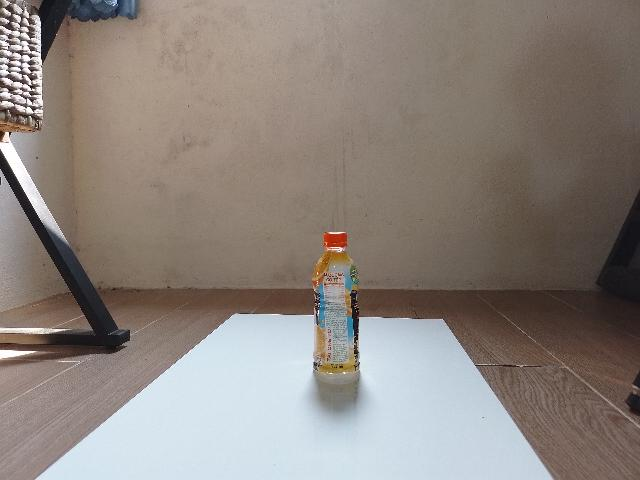teppy_orange_juice: (312, 232, 360, 386)
